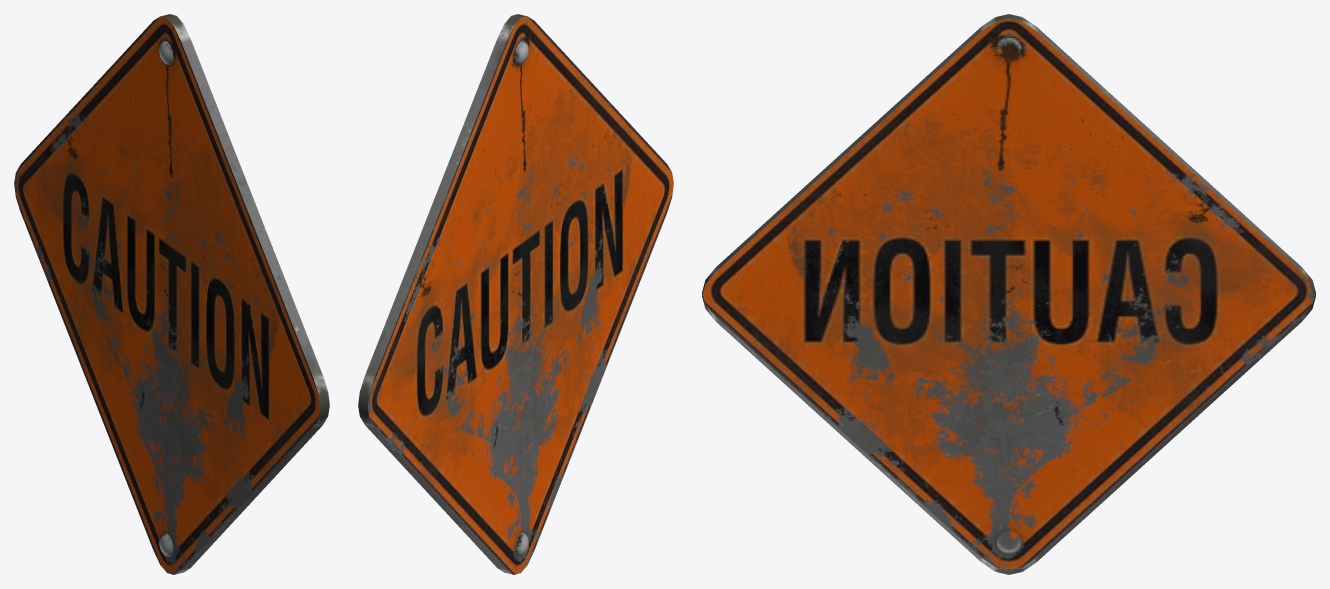
File: Prop_TrafficSign_1.fbx
3 renders of one model, left to right at view 1: azimuth 30°, elevation 25°; view 2: azimuth 150°, elevation 25°; view 3: azimuth 270°, elevation 25°, orthographic.
Visible parts, largest first — view 1: Prop_TrafficSign_1; view 2: Prop_TrafficSign_1; view 3: Prop_TrafficSign_1.
Boxes of the visible parts, left/top/right/bottom form: Prop_TrafficSign_1: left=14, top=14, right=329, bottom=574; Prop_TrafficSign_1: left=358, top=14, right=673, bottom=574; Prop_TrafficSign_1: left=702, top=14, right=1315, bottom=574.
Bounding box in the file's own units: 1.28 × 45.92 × 45.92.
